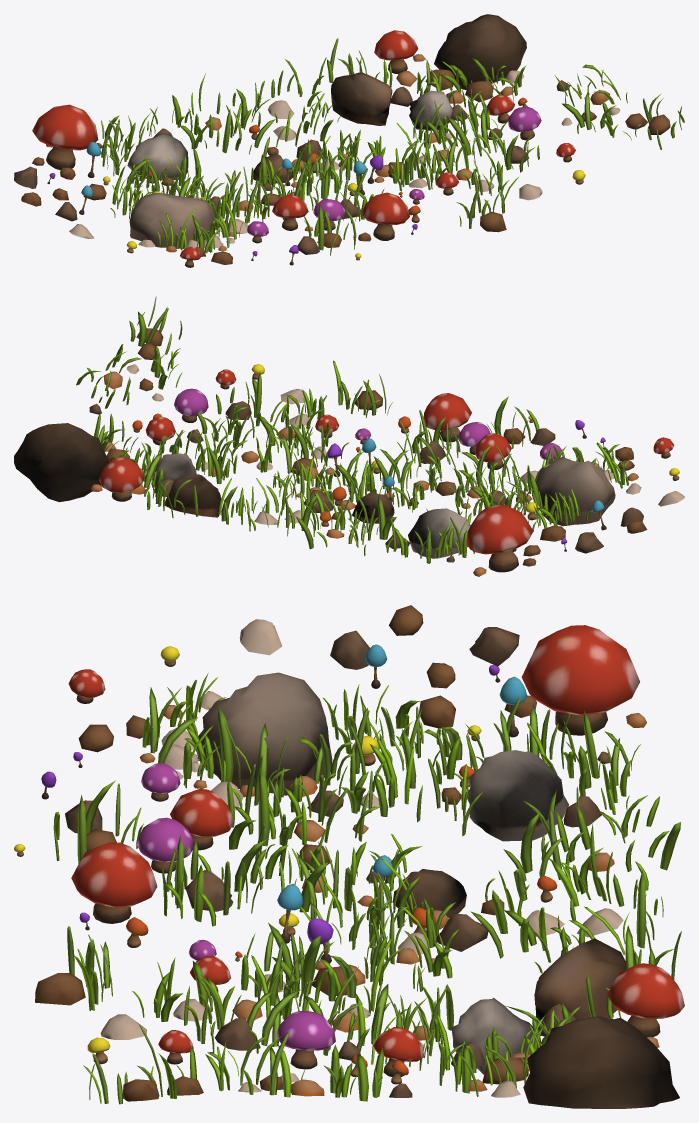
Rendered from ElementsDecor.FBX.
3 renders of one model, top to bottom at view 1: azimuth 30°, elevation 25°; view 2: azimuth 150°, elevation 25°; view 3: azimuth 270°, elevation 25°, orthographic. The views are drawn at different scales.
Visible parts, largest first — view 1: ElementsDecor; view 2: ElementsDecor; view 3: ElementsDecor.
Boxes of the visible parts, x1,y1,x2,y2 form: ElementsDecor: [14, 14, 684, 267]; ElementsDecor: [14, 296, 684, 576]; ElementsDecor: [14, 605, 684, 1108].
Size of the model in its own units: 28.98 by 4 by 16.77.
